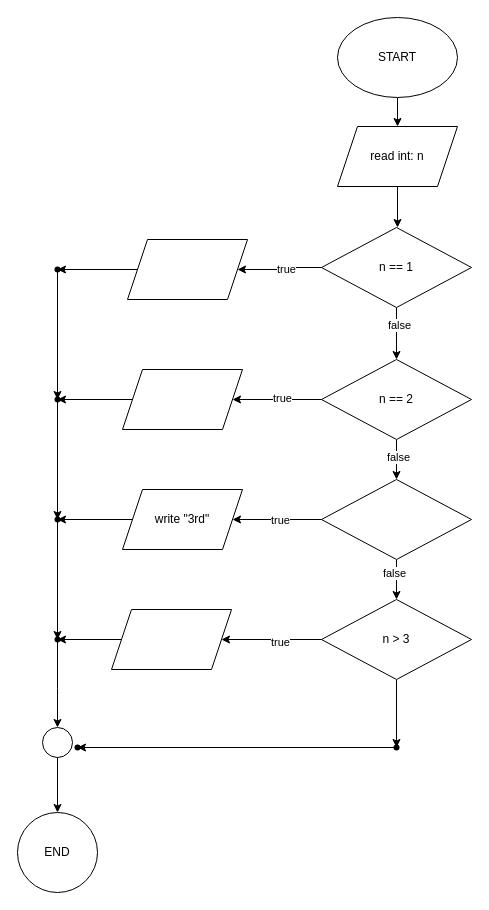
This 489x910 diagram has some shape labels left out. Here are the shapes that lost their labels. From the top down, the box of each, then its label:
(126, 238, 248, 300): write "1st"
(122, 368, 242, 430): write ""2nd
(320, 478, 472, 560): n == 3
(110, 608, 232, 670): write "[n]th"
